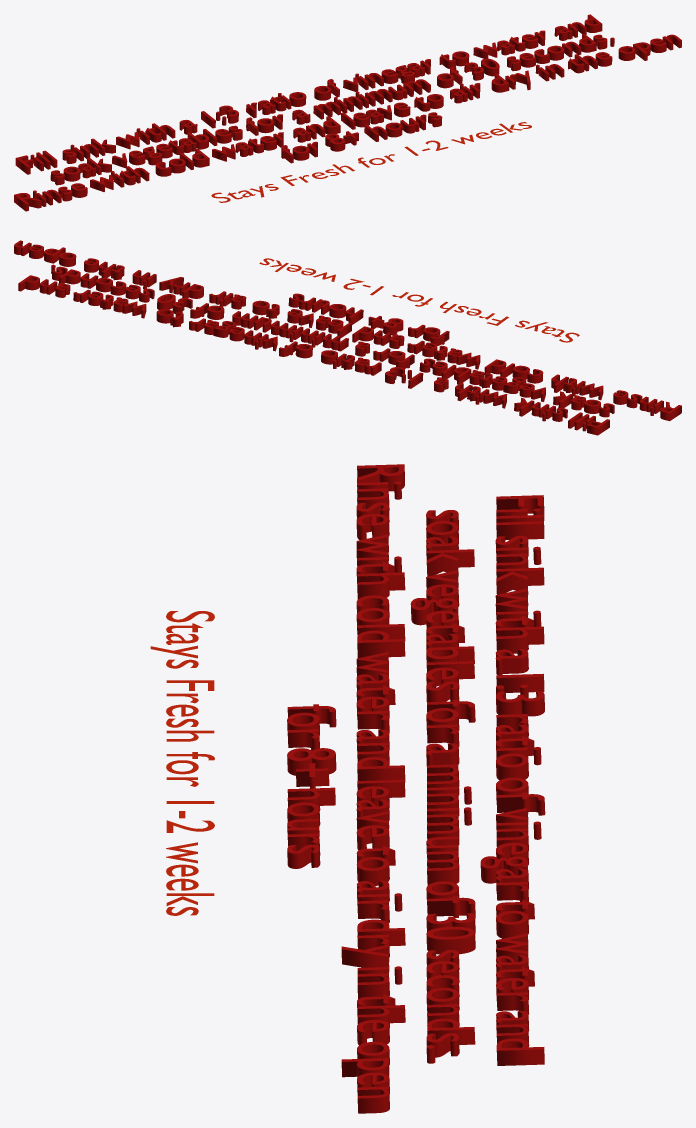
Rendered from vegetables.obj.
The picture shows the model from 3 angles, top to bottom: view 1: azimuth 30°, elevation 25°; view 2: azimuth 150°, elevation 25°; view 3: azimuth 270°, elevation 25°; orthographic projection. The views are drawn at different scales.
Parts seen in each view (by area): view 1: Text, Text.001; view 2: Text, Text.001; view 3: Text, Text.001.
Part boxes in pixels (x1,y1,x2,y2): Text: (14, 14, 681, 211); Text.001: (211, 122, 531, 202); Text: (14, 240, 681, 435); Text.001: (259, 258, 579, 342); Text: (287, 464, 545, 1113); Text.001: (150, 611, 214, 915).
Size of the model in its own units: 21.76 by 0.4439 by 5.67.
